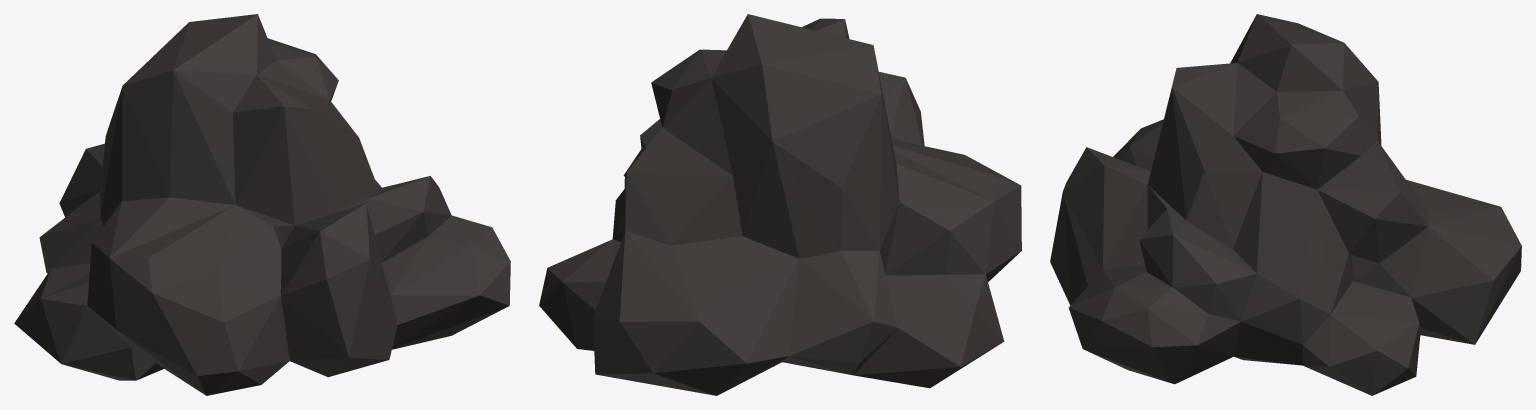
File: Rock_7.fbx
3 views of the same model, side by side, from view 1: azimuth 30°, elevation 25°; view 2: azimuth 150°, elevation 25°; view 3: azimuth 270°, elevation 25° (orthographic). The views are drawn at different scales.
Visible parts, largest first — view 1: Group36992; view 2: Group36992; view 3: Group36992.
Boxes of the visible parts, x1=… form: Group36992: x1=14, y1=14, x2=510, y2=395; Group36992: x1=539, y1=14, x2=1021, y2=395; Group36992: x1=1050, y1=14, x2=1521, y2=395.
Size of the model in its own units: 3.49 by 2.54 by 3.72.
